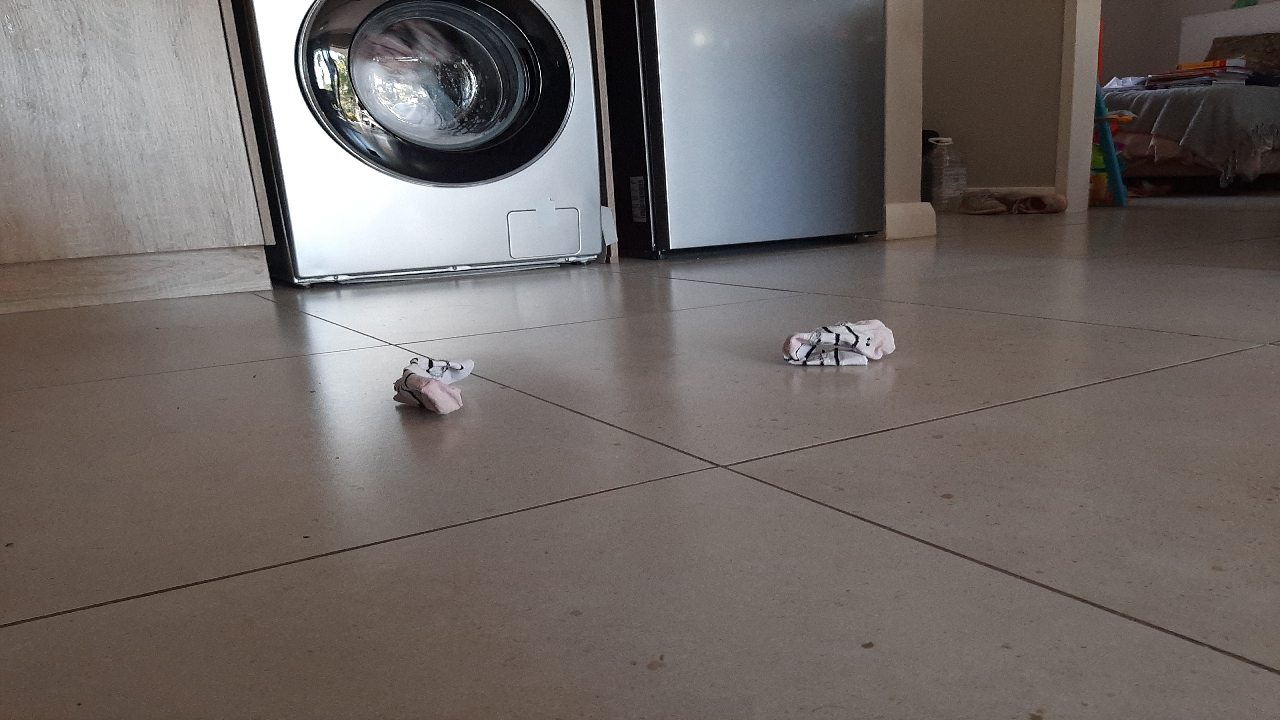socks: (328, 337, 504, 444), (743, 299, 933, 384)
